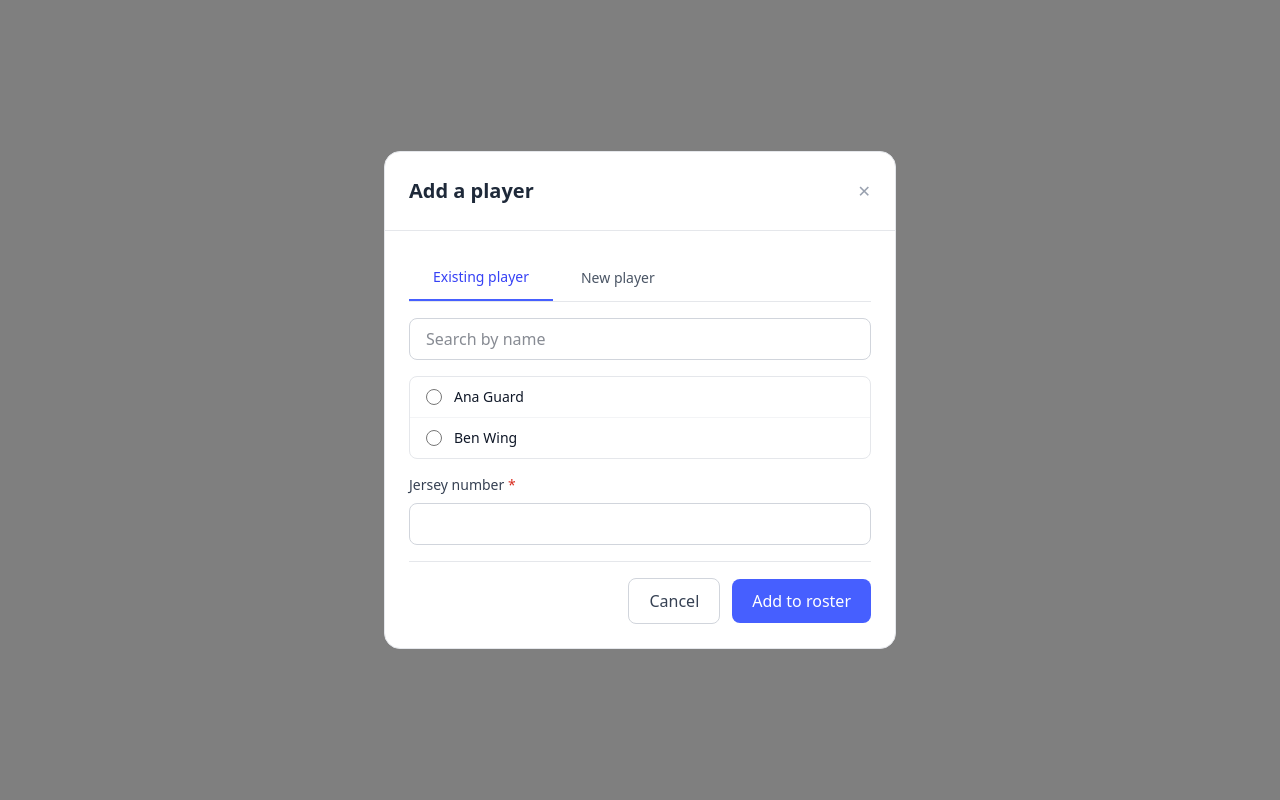
AddPlayerDialog: existing player › needs a player chosen and a jersey number before it can be added
What coordinates should you click on to do the following:
click the button "Add to roster"
I would click on:
 (802, 601)
Its box is [732,579,871,623].
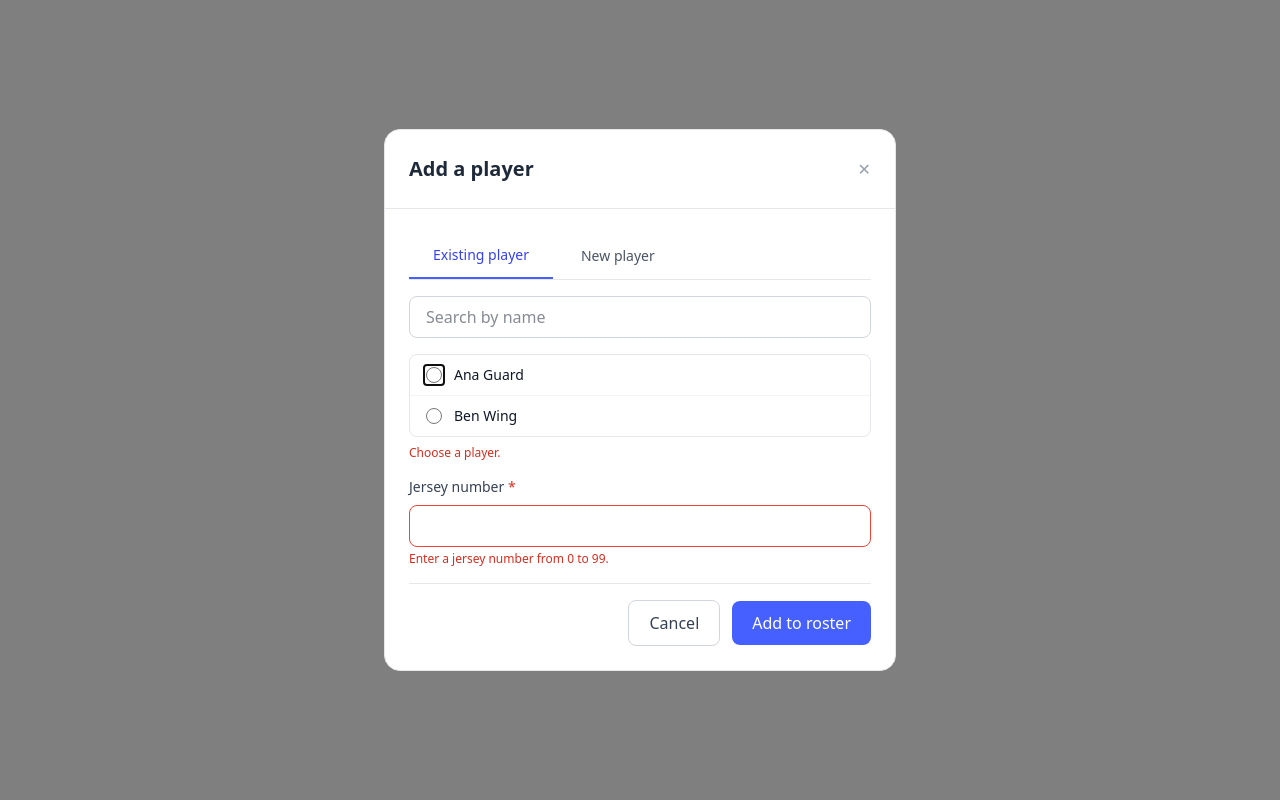
expect the text "Choose a player." is shown: met, box [409,444,500,461]
expect the text "Enter a jersey number from 0 to 99." is shown: met, box [409,550,609,567]
